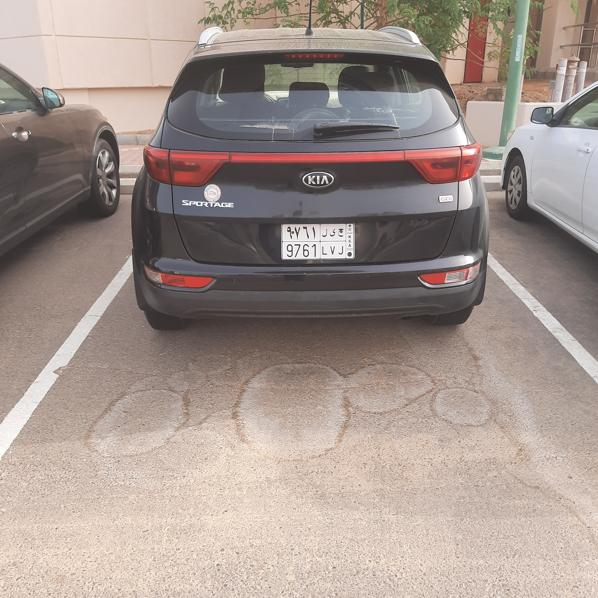numberplate: (281, 223, 355, 259)
